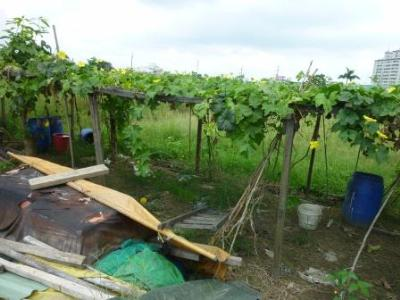bucket: (341, 170, 385, 230), (295, 202, 325, 232), (51, 130, 71, 157)
